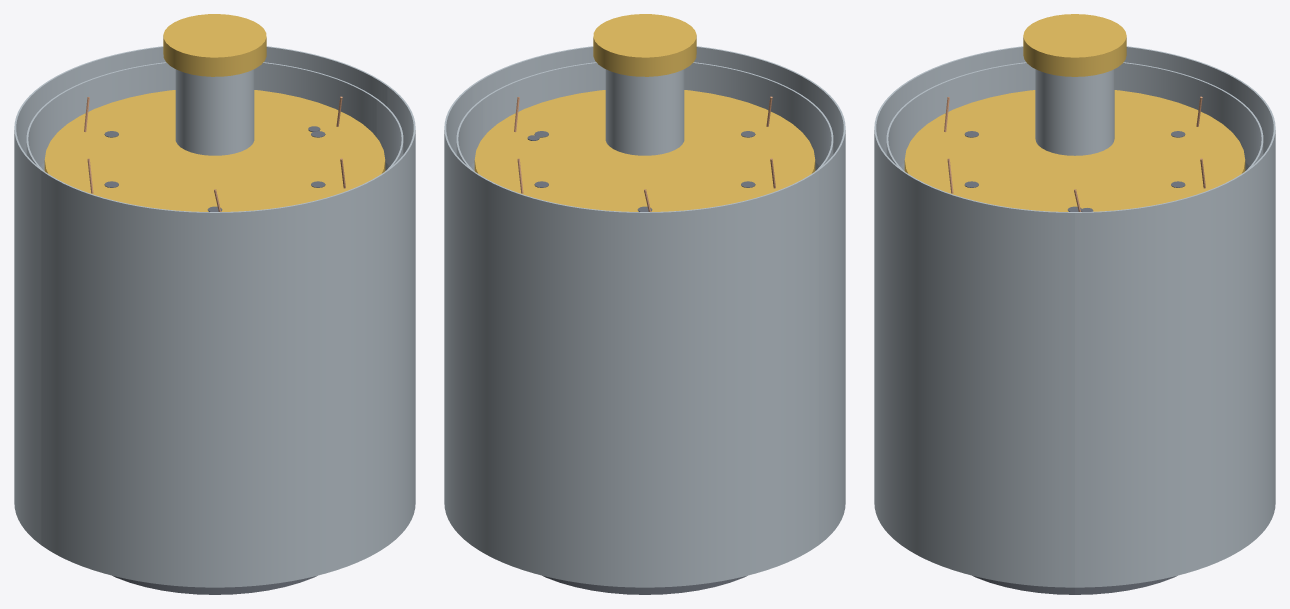
The model's file is quantum_dilution_refrigerator.glb.
The picture shows the model from 3 angles, left to right: view 1: azimuth 30°, elevation 25°; view 2: azimuth 150°, elevation 25°; view 3: azimuth 270°, elevation 25°; orthographic projection.
Parts seen in each view (by area): view 1: vacuum-can-front, plate-50k, vacuum-can-back, pulse-tube-cooler, shield-50k-back, shield-50k-front, magnetic-shield; view 2: vacuum-can-back, plate-50k, vacuum-can-front, pulse-tube-cooler, shield-50k-front, shield-50k-back, magnetic-shield; view 3: vacuum-can-back, vacuum-can-front, plate-50k, pulse-tube-cooler, shield-50k-front, shield-50k-back, magnetic-shield.
Boxes of the visible parts, left/top/right/bottom form: vacuum-can-front: left=41, top=85, right=415, bottom=587; plate-50k: left=44, top=90, right=385, bottom=211; vacuum-can-back: left=14, top=46, right=388, bottom=544; pulse-tube-cooler: left=163, top=14, right=266, bottom=155; shield-50k-back: left=26, top=62, right=377, bottom=170; shield-50k-front: left=376, top=99, right=403, bottom=170; magnetic-shield: left=112, top=575, right=317, bottom=594; vacuum-can-back: left=444, top=85, right=818, bottom=587; plate-50k: left=474, top=90, right=815, bottom=211; vacuum-can-front: left=471, top=46, right=845, bottom=544; pulse-tube-cooler: left=593, top=14, right=696, bottom=155; shield-50k-front: left=482, top=62, right=833, bottom=170; shield-50k-back: left=456, top=99, right=483, bottom=170; magnetic-shield: left=542, top=575, right=747, bottom=594; vacuum-can-back: left=1075, top=46, right=1275, bottom=587; vacuum-can-front: left=874, top=46, right=1074, bottom=587; plate-50k: left=904, top=90, right=1245, bottom=211; pulse-tube-cooler: left=1023, top=14, right=1126, bottom=155; shield-50k-front: left=886, top=62, right=1035, bottom=171; shield-50k-back: left=1114, top=62, right=1263, bottom=171; magnetic-shield: left=972, top=575, right=1177, bottom=594.
Size of the model in its own units: 0.66 by 0.9785 by 0.66.
